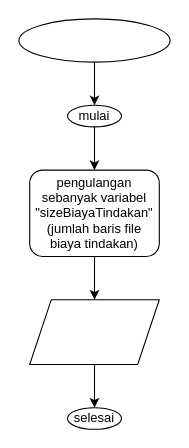
This 189x448 diagram has some shape labels left out. Each missing label, with the centre of its shape:
"menampilkan rincian biaya tindakan (no., aktivitas, biaya)" belongs at (x=94, y=331).
"tampilkanBiayaTindakan" belongs at (x=94, y=40).
